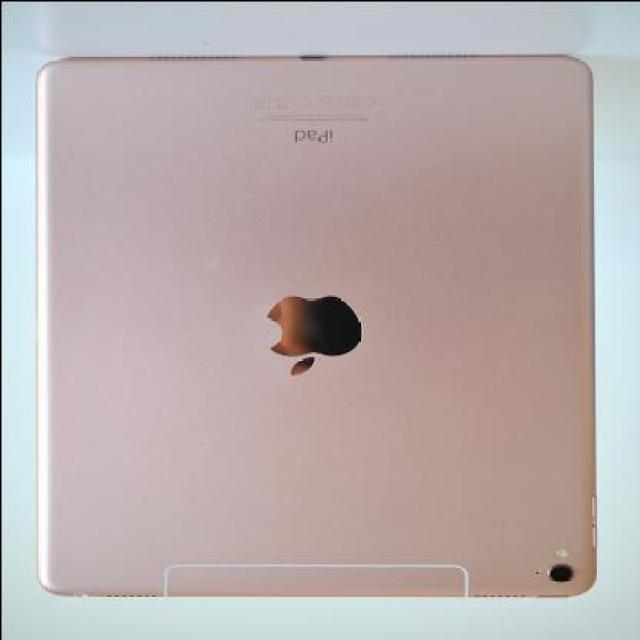tablet: (17, 9, 640, 638)
